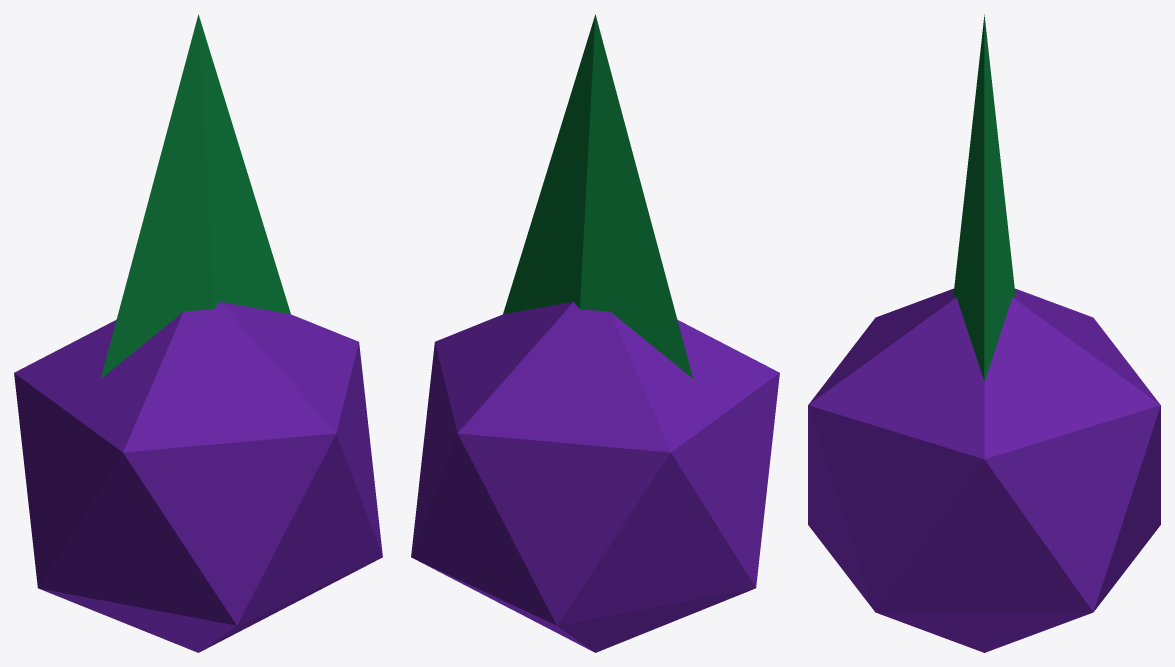
File: Item_OR_Herb_02.glb
3 renders of one model, left to right at view 1: azimuth 30°, elevation 25°; view 2: azimuth 150°, elevation 25°; view 3: azimuth 270°, elevation 25°, orthographic.
Parts seen in each view (by area): view 1: Item_OR_Herb_02; view 2: Item_OR_Herb_02; view 3: Item_OR_Herb_02.
Part boxes in pixels (left/top/right/bottom): Item_OR_Herb_02: left=14, top=14, right=382, bottom=652; Item_OR_Herb_02: left=411, top=14, right=779, bottom=652; Item_OR_Herb_02: left=808, top=14, right=1160, bottom=652.
Size of the model in its own units: 0.0894 by 0.17 by 0.0851.
